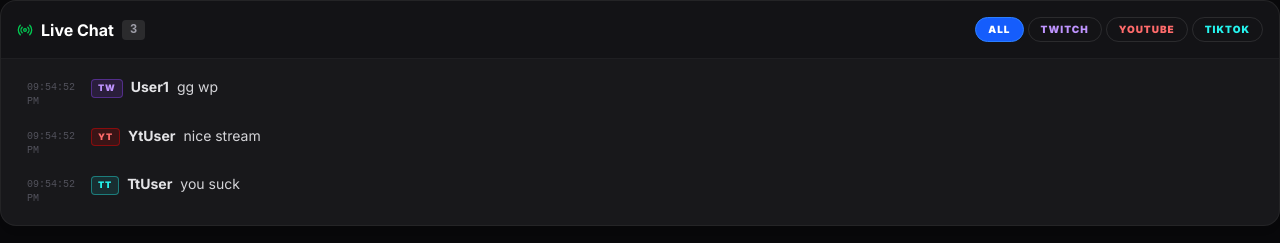
Test: LiveChat › filters by platform
Click the tab "YouTube". click: [1147, 30]
box: [1106,17,1188,42]
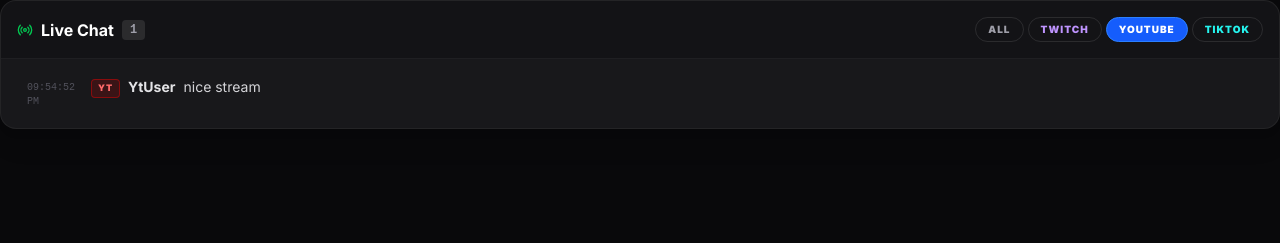
Check: the text "nice stream" is shown, box [184,78,261,95]
Check: the number of elements with test id "chat-row" is 1, box [27,78,261,107]
